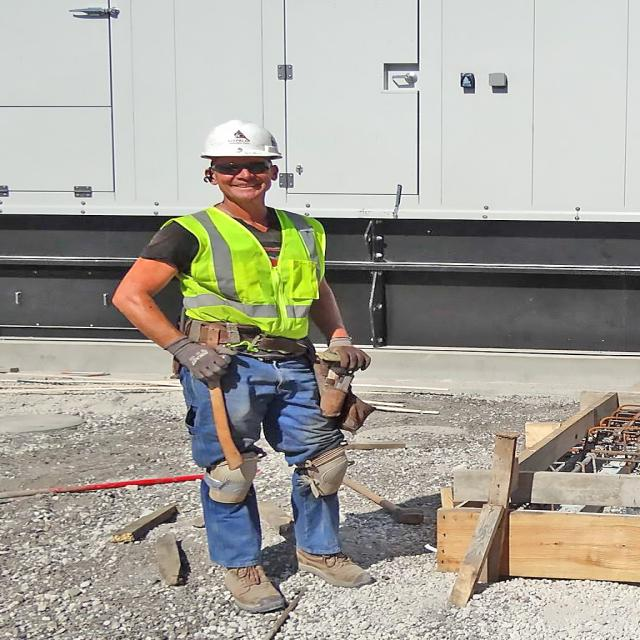Boots: (203, 538, 379, 618)
Hard Hat: (197, 116, 285, 172)
Reflective Vest: (154, 190, 345, 344)
Safety Glasses: (202, 164, 282, 186)
